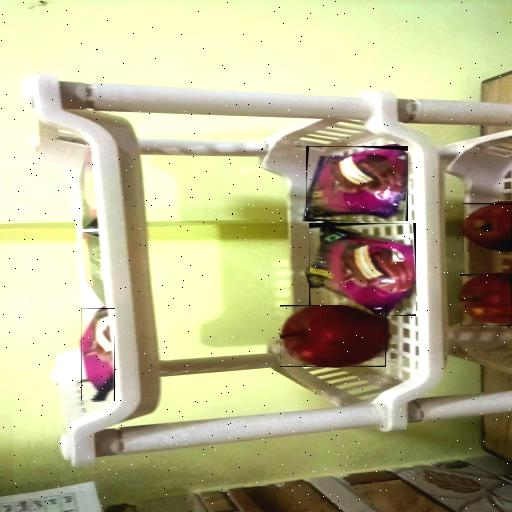Apple: (280, 305, 386, 367), (460, 274, 512, 326), (463, 203, 512, 252)
Choco Pie: (309, 223, 416, 316), (306, 146, 408, 221), (81, 309, 114, 401)
